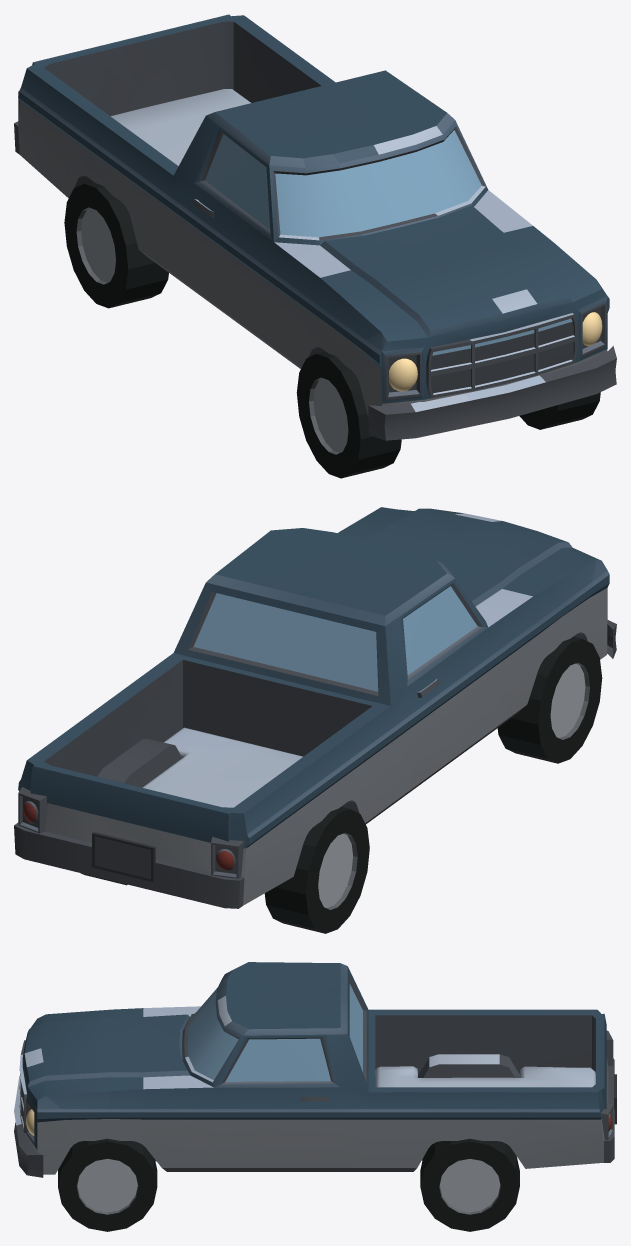
File: pickup_clean.glb
The picture shows the model from 3 angles, top to bottom: view 1: azimuth 30°, elevation 25°; view 2: azimuth 150°, elevation 25°; view 3: azimuth 270°, elevation 25°; orthographic projection. The views are drawn at different scales.
Parts seen in each view (by area): view 1: Body, Glass; view 2: Body, Glass; view 3: Body, Glass.
Boxes of the visible parts, x1,y1,x2,y2 form: Body: [14, 14, 616, 478]; Glass: [205, 130, 572, 355]; Body: [14, 507, 616, 933]; Glass: [193, 586, 477, 691]; Body: [14, 962, 616, 1231]; Glass: [187, 984, 362, 1081].
Size of the model in its own units: 2.05 by 1.95 by 5.6.
